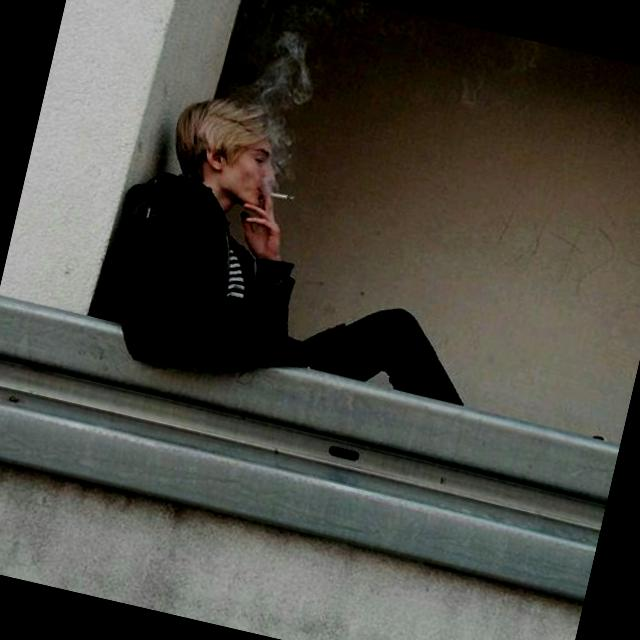cigarette: (258, 168, 306, 207)
